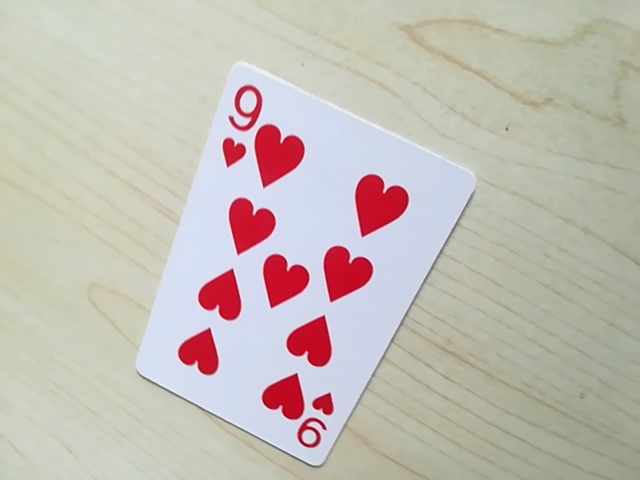hx 9: (219, 77, 275, 149), (283, 400, 338, 459)
